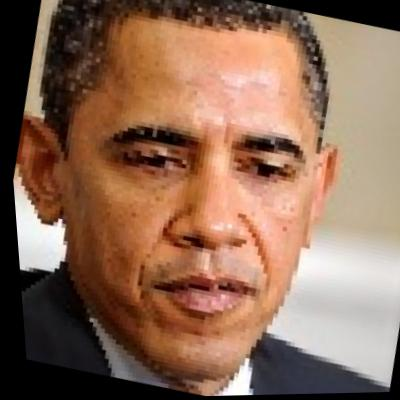sad: (9, 0, 360, 377)
